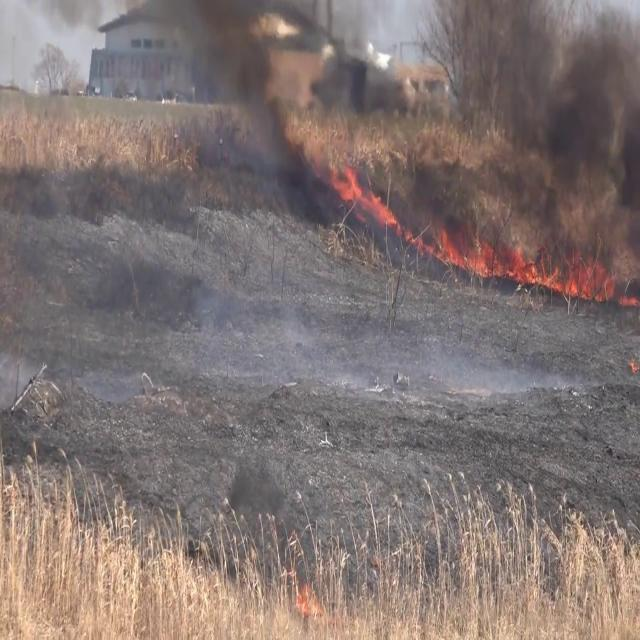Fire: (248, 4, 368, 212), (417, 228, 613, 292)
Smoke: (487, 0, 640, 283)
